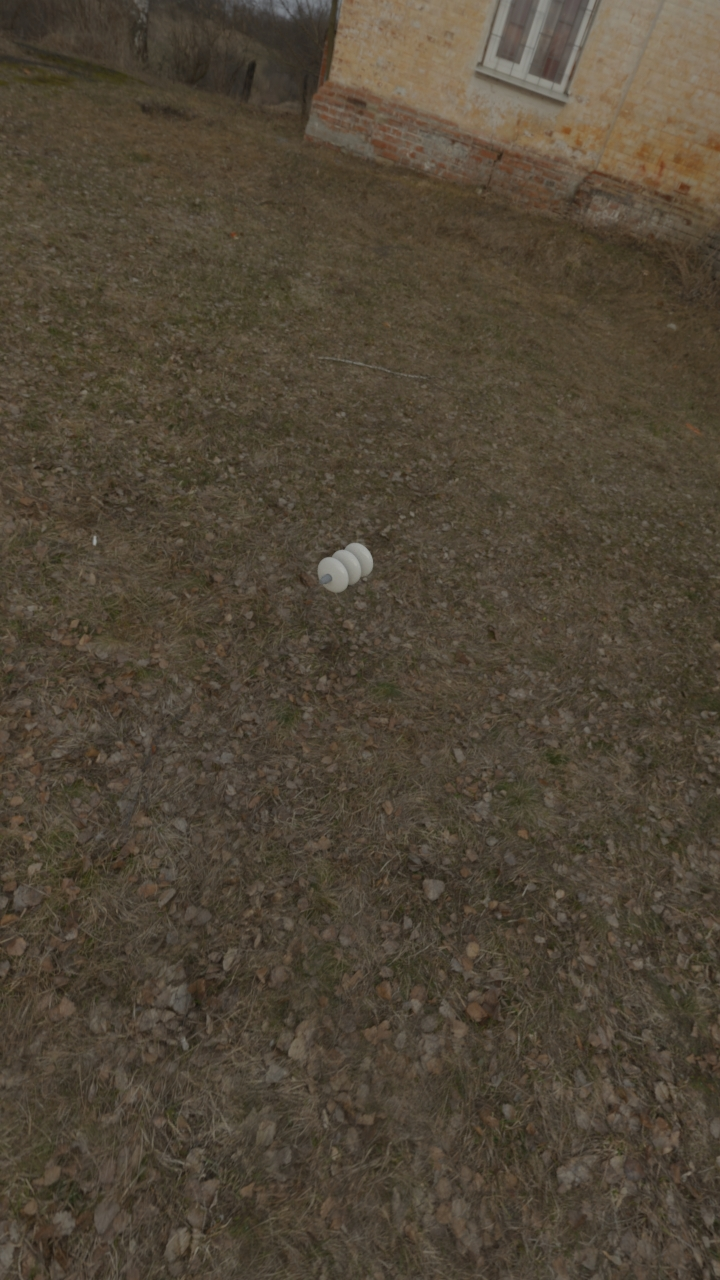ceramicinsulators: (318, 543, 374, 593)
